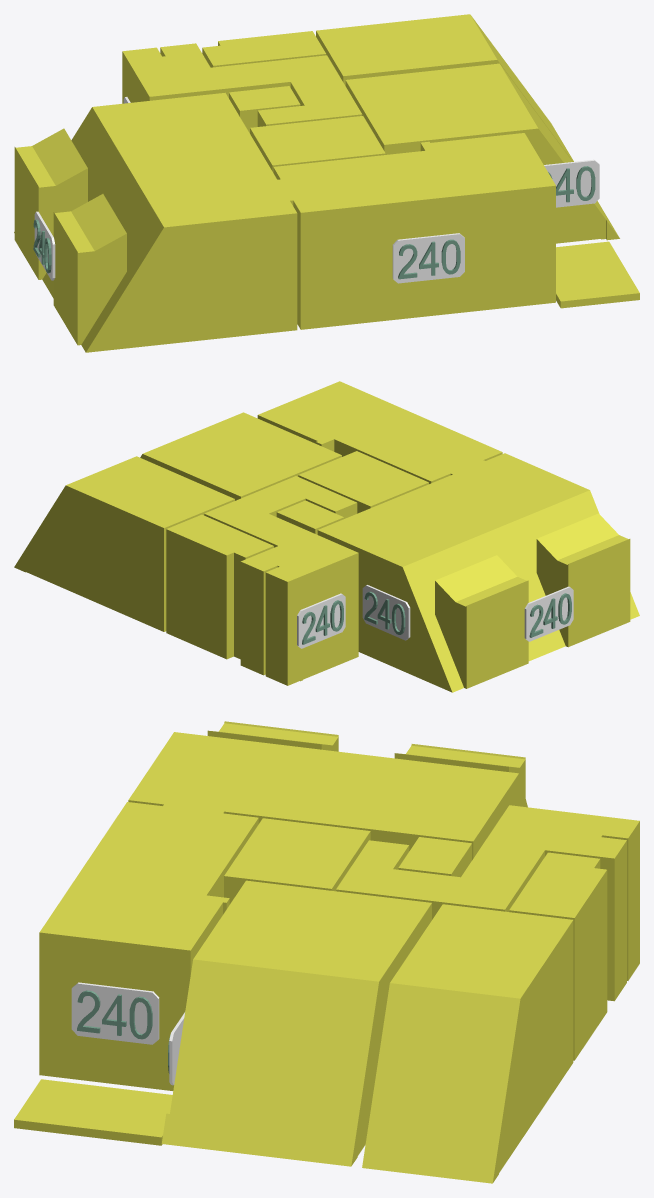
The picture shows the model from 3 angles, top to bottom: view 1: azimuth 30°, elevation 25°; view 2: azimuth 150°, elevation 25°; view 3: azimuth 270°, elevation 25°; orthographic projection. The views are drawn at different scales.
Parts seen in each view (by area): view 1: g_0, g_1, g_2, g_5, g_3, g_4, g_8, g_7, g_24, g_6, g_28, g_12; view 2: g_0, g_3, g_5, g_1, g_7, g_2, g_4, g_16, g_12, g_20, g_6; view 3: g_2, g_3, g_1, g_0, g_5, g_7, g_4, g_8, g_32, g_6.
Part boxes in pixels (x1=…): g_0: x1=14, y1=92, x2=297, y2=352; g_1: x1=273, y1=133, x2=555, y2=329; g_2: x1=345, y1=63, x2=619, y2=243; g_5: x1=122, y1=43, x2=362, y2=126; g_3: x1=316, y1=14, x2=573, y2=161; g_4: x1=250, y1=116, x2=385, y2=172; g_8: x1=556, y1=241, x2=639, y2=308; g_7: x1=202, y1=31, x2=326, y2=67; g_24: x1=392, y1=233, x2=464, y2=283; g_6: x1=229, y1=86, x2=300, y2=133; g_28: x1=544, y1=159, x2=599, y2=207; g_12: x1=34, y1=211, x2=55, y2=280; g_0: x1=317, y1=453, x2=639, y2=692; g_3: x1=14, y1=456, x2=234, y2=631; g_5: x1=204, y1=476, x2=358, y2=685; g_1: x1=257, y1=381, x2=502, y2=483; g_7: x1=166, y1=514, x2=273, y2=659; g_2: x1=140, y1=412, x2=341, y2=500; g_4: x1=298, y1=451, x2=428, y2=513; g_16: x1=362, y1=585, x2=410, y2=640; g_12: x1=524, y1=586, x2=573, y2=641; g_20: x1=297, y1=593, x2=345, y2=648; g_6: x1=276, y1=500, x2=343, y2=534; g_2: x1=161, y1=880, x2=431, y2=1166; g_3: x1=362, y1=904, x2=573, y2=1183; g_1: x1=39, y1=802, x2=258, y2=1090; g_0: x1=128, y1=721, x2=527, y2=860; g_5: x1=336, y1=805, x2=639, y2=1001; g_7: x1=509, y1=852, x2=607, y2=1060; g_4: x1=224, y1=818, x2=370, y2=904; g_8: x1=14, y1=1079, x2=172, y2=1145; g_32: x1=71, y1=982, x2=159, y2=1044; g_6: x1=398, y1=837, x2=471, y2=877.
Bounding box in the file's own units: 13.31 × 2.71 × 10.12.
